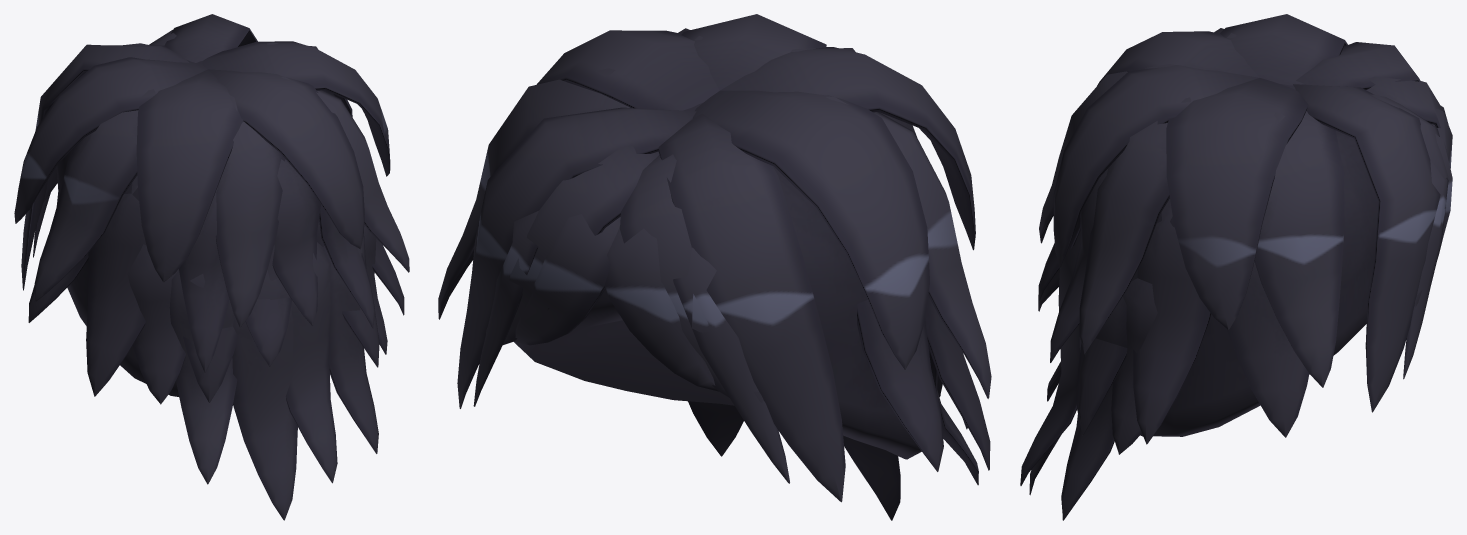
File: FluffyWolfCut.obj
The picture shows the model from 3 angles, left to right: view 1: azimuth 30°, elevation 25°; view 2: azimuth 150°, elevation 25°; view 3: azimuth 270°, elevation 25°; orthographic projection. The views are drawn at different scales.
Visible parts, largest first — view 1: FluffyWolfCut; view 2: FluffyWolfCut; view 3: FluffyWolfCut.
Part boxes in pixels (x1,y1,x2,y2): FluffyWolfCut: (14,14,409,520); FluffyWolfCut: (438,14,991,520); FluffyWolfCut: (1020,14,1452,520).
Bounding box in the file's own units: 1.71 × 1.78 × 1.56.
Materials: 1 (1 with a texture image).
